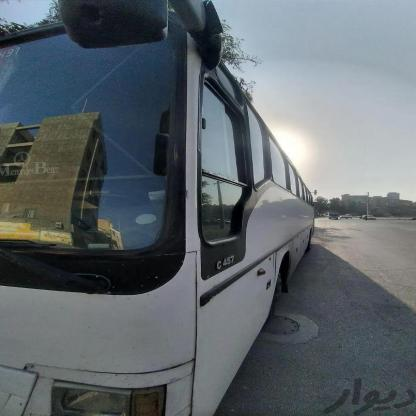Bus: (0, 0, 323, 416)
